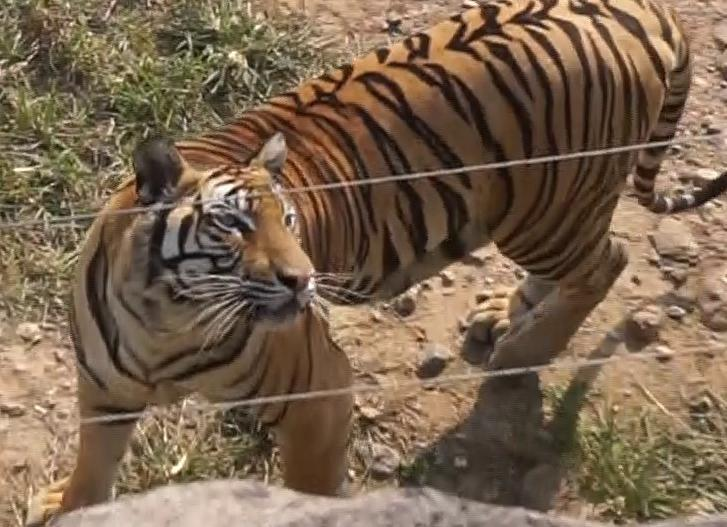tiger: (69, 105, 353, 416), (257, 396, 351, 494), (43, 420, 135, 513)
